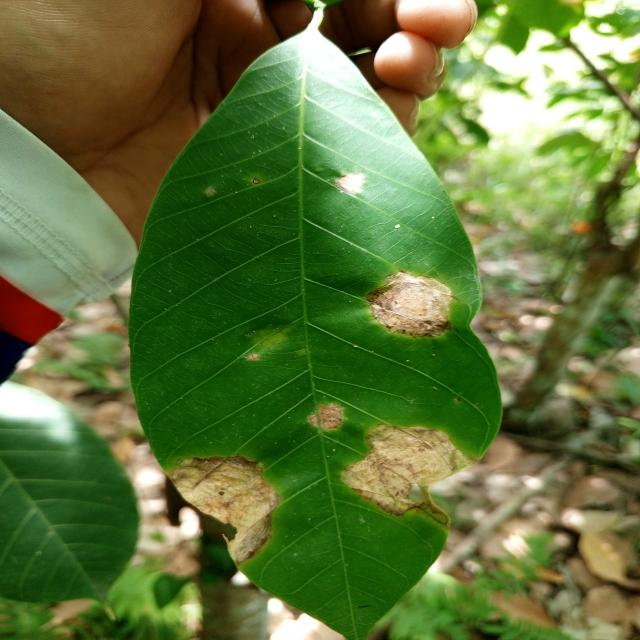Leaf-Blight: (341, 422, 481, 528), (167, 454, 281, 567), (366, 271, 452, 339), (336, 173, 364, 196), (252, 178, 260, 184)
